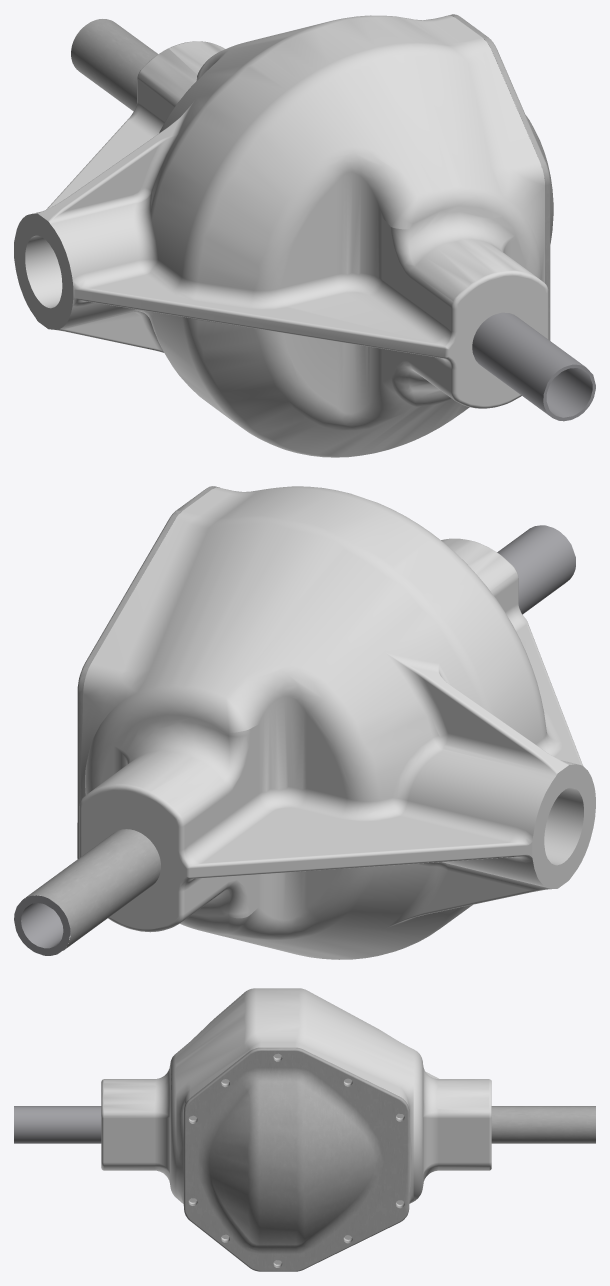
Rendered from capstone-axle.glb.
The picture shows the model from 3 angles, top to bottom: view 1: azimuth 30°, elevation 25°; view 2: azimuth 150°, elevation 25°; view 3: azimuth 270°, elevation 25°; orthographic projection. The views are drawn at different scales.
Bounding box in the file's own units: 0.2163 × 0.1848 × 0.3935.
Materials: 3 (1 with a texture image).
